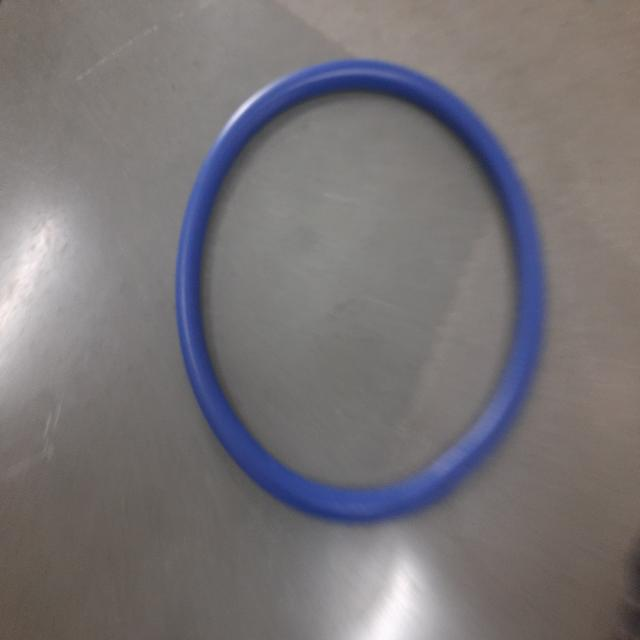daire: (179, 59, 543, 520)
